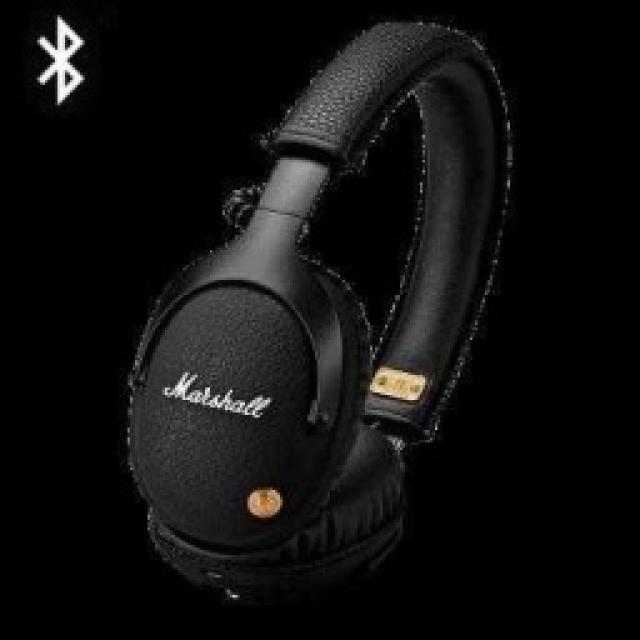headphones: (120, 15, 515, 607)
